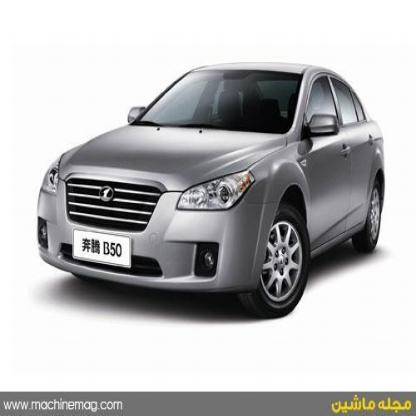Car: (33, 58, 385, 320)
